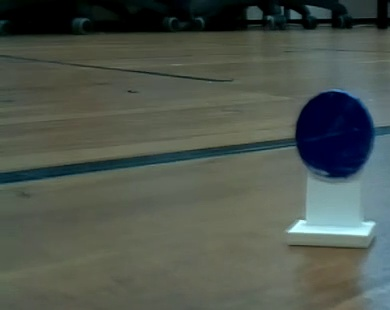circle: (265, 85, 390, 254)
